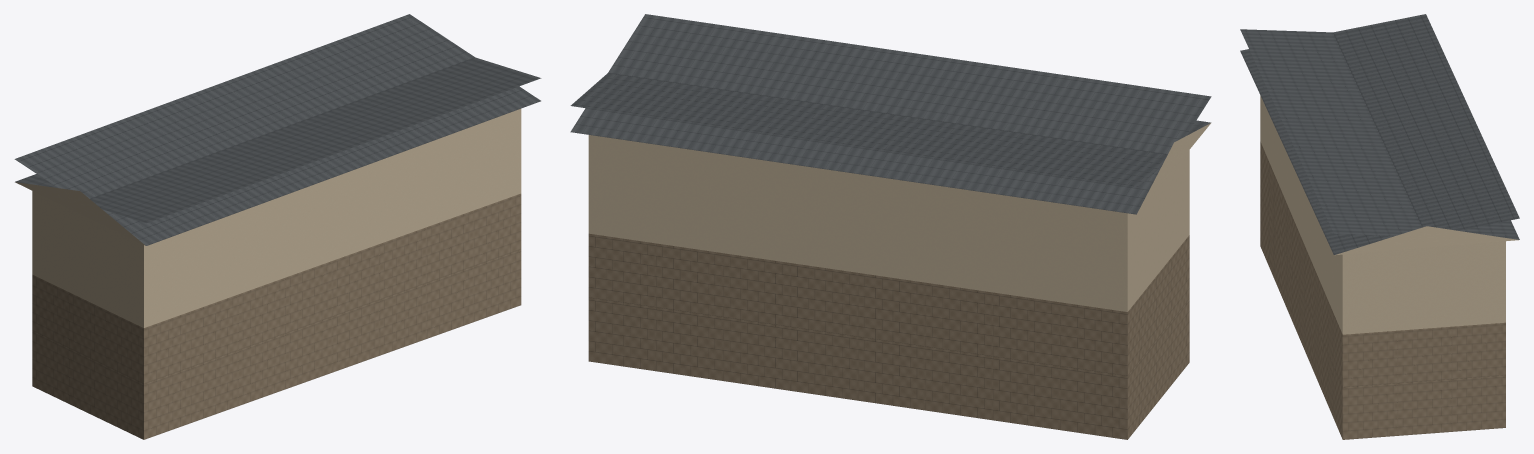
File: bld_c9_6_514.gltf
3 renders of one model, left to right at view 1: azimuth 30°, elevation 25°; view 2: azimuth 150°, elevation 25°; view 3: azimuth 270°, elevation 25°, orthographic. The views are drawn at different scales.
Visible parts, largest first — view 1: bld_c9_6_514; view 2: bld_c9_6_514; view 3: bld_c9_6_514.
Boxes of the visible parts, box(x1,y1,x2,y2) form: bld_c9_6_514: box(14, 14, 541, 439); bld_c9_6_514: box(570, 14, 1211, 439); bld_c9_6_514: box(1240, 14, 1519, 439).
Bounding box in the file's own units: 21.87 × 9.9 × 11.77.
4 materials, 4 textured.
